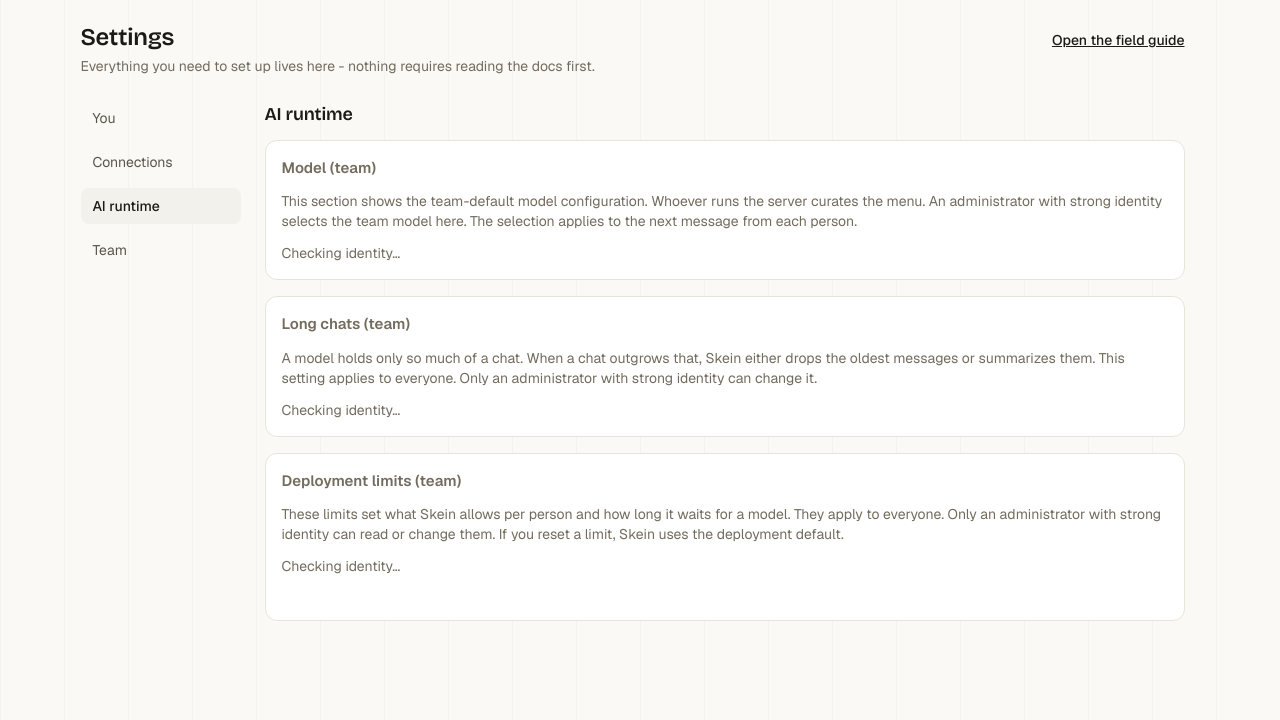
the reasoning section › reads the levels once when the page loads
Click the link "AI runtime" at (160,206), box [80,188,240,224]
(page scrolled)
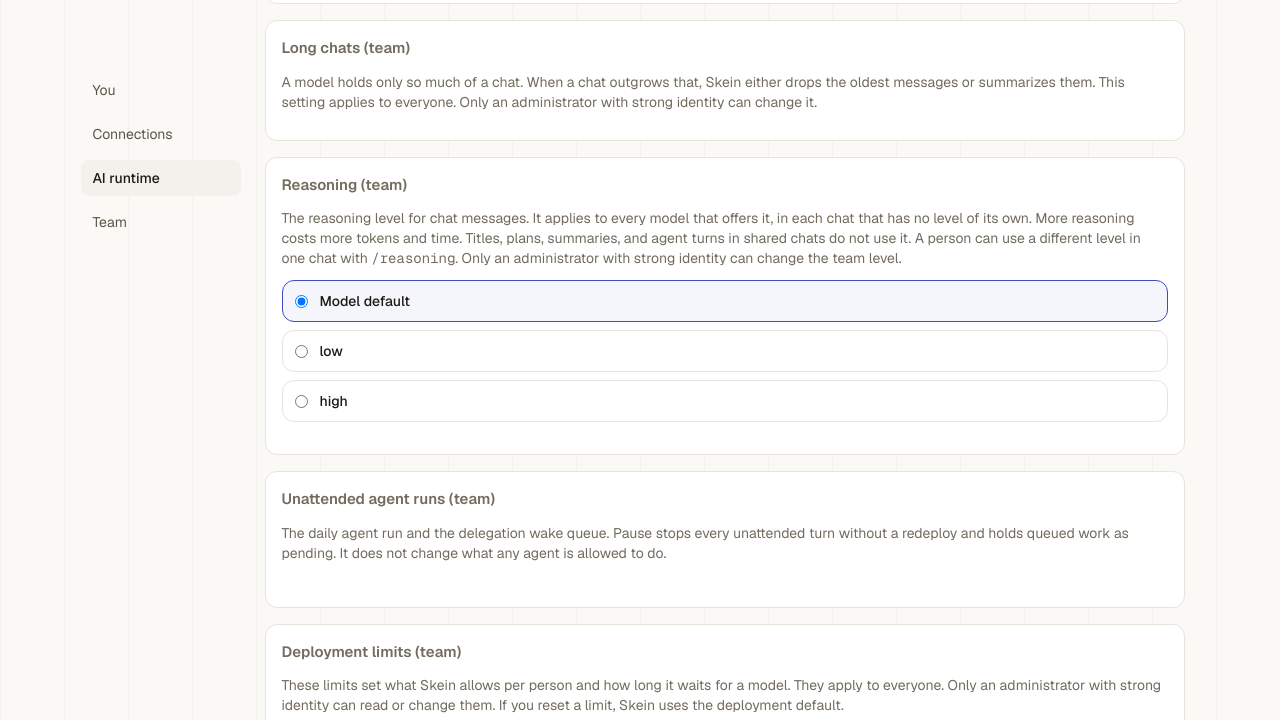
Check: the radio button labelled "high" is shown, box [294,395,308,408]
